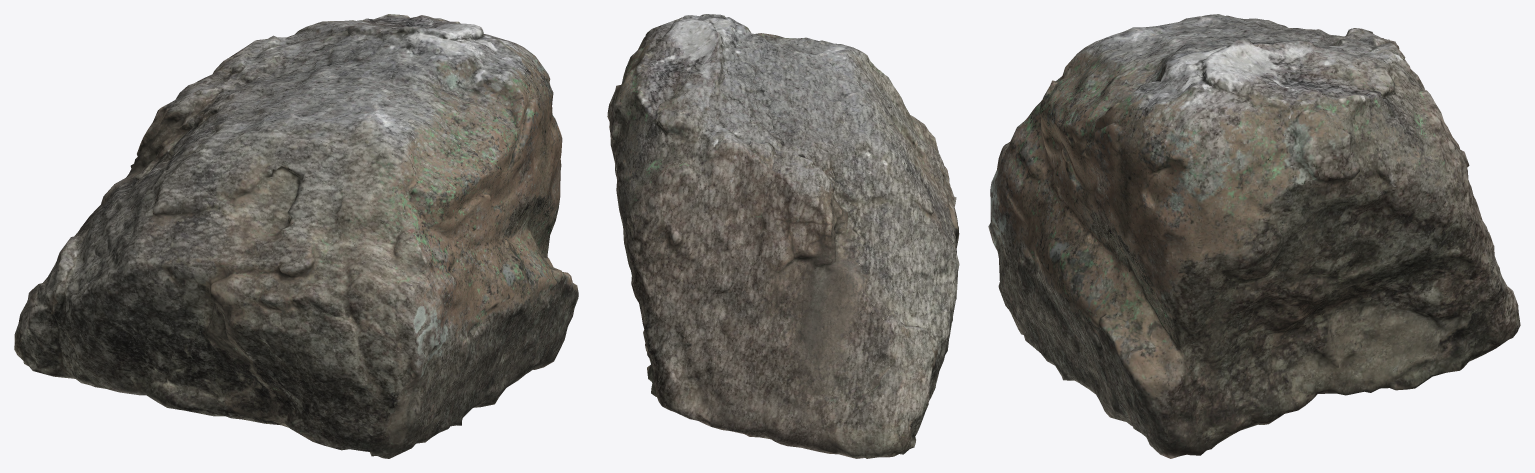
The model's file is namaqualand_boulder_04.glb.
The picture shows the model from 3 angles, left to right: view 1: azimuth 30°, elevation 25°; view 2: azimuth 150°, elevation 25°; view 3: azimuth 270°, elevation 25°; orthographic projection. The views are drawn at different scales.
Visible parts, largest first — view 1: namaqualand_boulder_04_LOD0; view 2: namaqualand_boulder_04_LOD0; view 3: namaqualand_boulder_04_LOD0.
Part boxes in pixels (bbox=[...]): namaqualand_boulder_04_LOD0: bbox=[14, 14, 578, 458]; namaqualand_boulder_04_LOD0: bbox=[607, 14, 959, 458]; namaqualand_boulder_04_LOD0: bbox=[988, 14, 1520, 458].
Size of what is drawn, in the model's own units: 2.52 by 1.9 by 2.49.
1 material, 1 textured.
